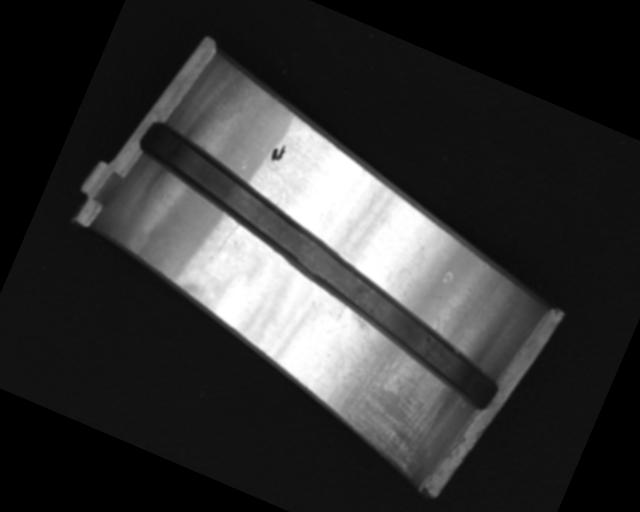blot: (267, 138, 290, 164)
bruise: (439, 269, 454, 286)
gap: (96, 117, 541, 410)
nick: (207, 215, 239, 264)
scratch: (300, 311, 469, 481)
